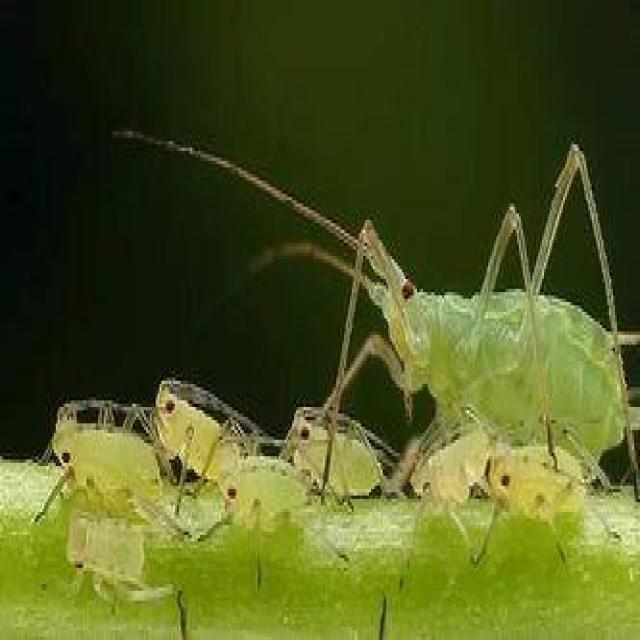Aphids: (23, 86, 632, 615)
